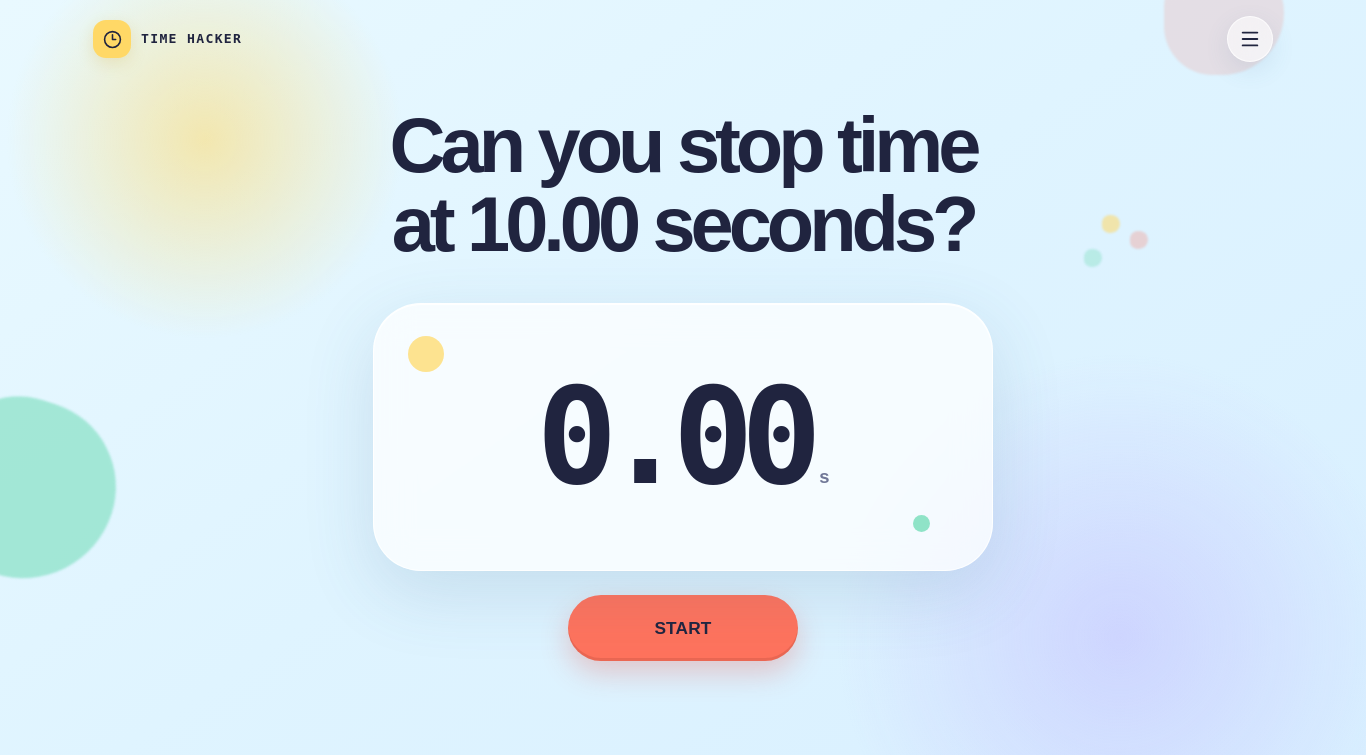
Test: TimeHackerApp › switches the complete interface to Chinese and persists the locale
The width and height of the screenshot is (1366, 755).
Expected: the button "START" is shown, [568, 596, 798, 662]
Click the button named "Open game menu".
click(1250, 39)  # box [1227, 16, 1273, 62]
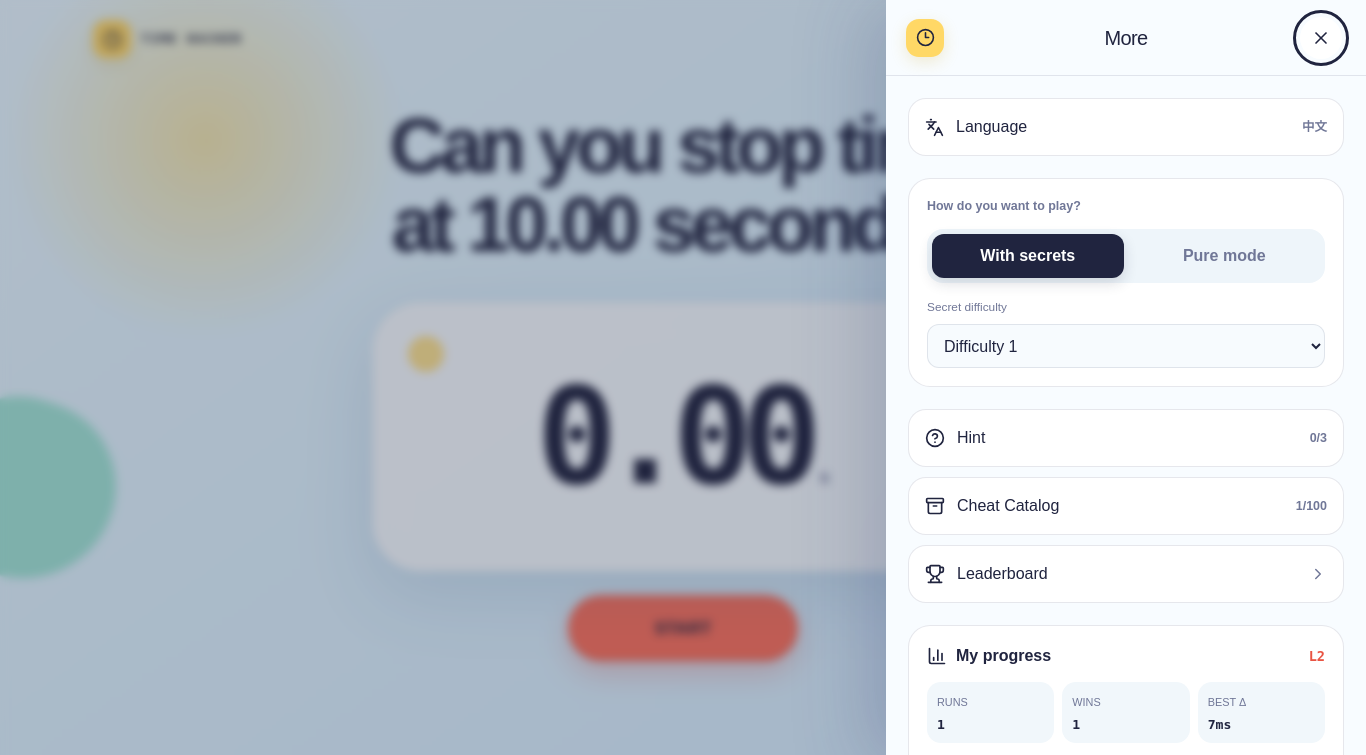
Click the button "Language 中文".
click(992, 126)  # box [908, 98, 1344, 156]
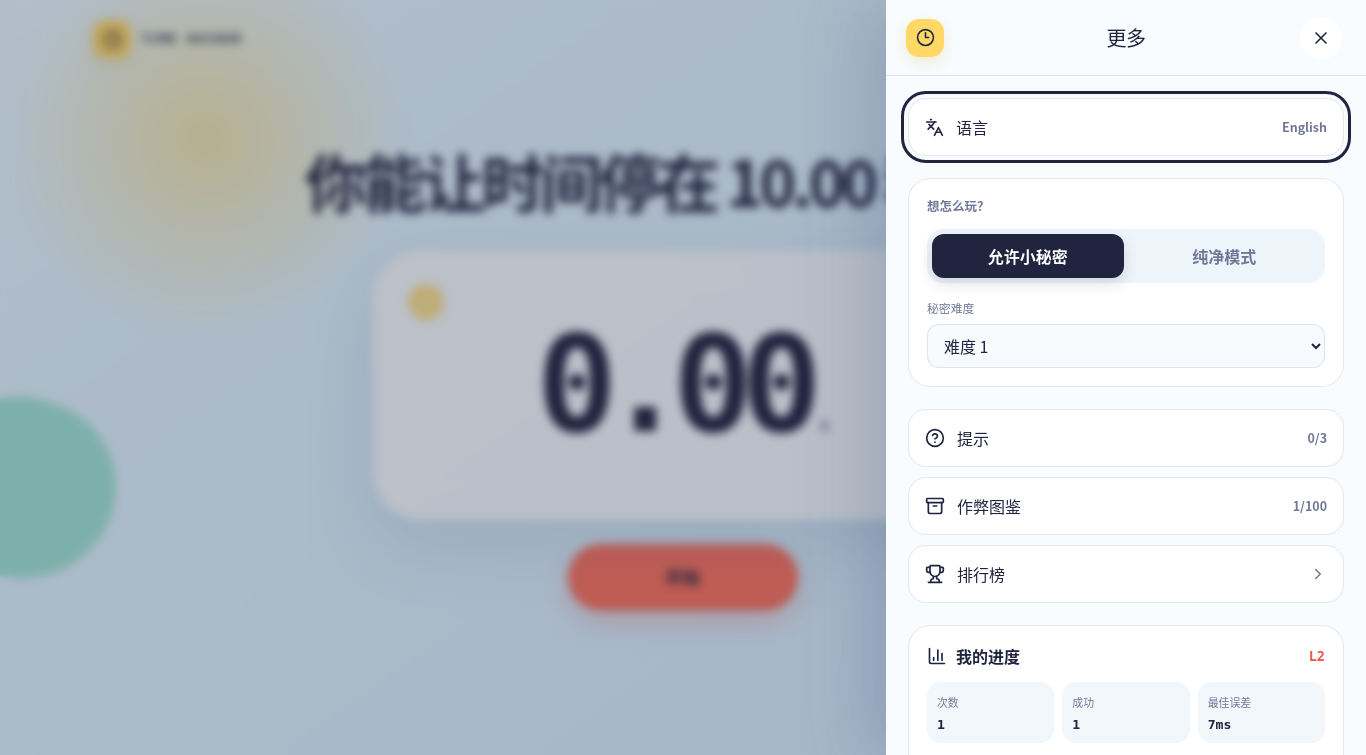
Expected: the heading "你能让时间停在 10.00 秒吗？" is shown, [305, 148, 1061, 212]
Expected: the button "开始" is shown, [568, 544, 798, 610]
